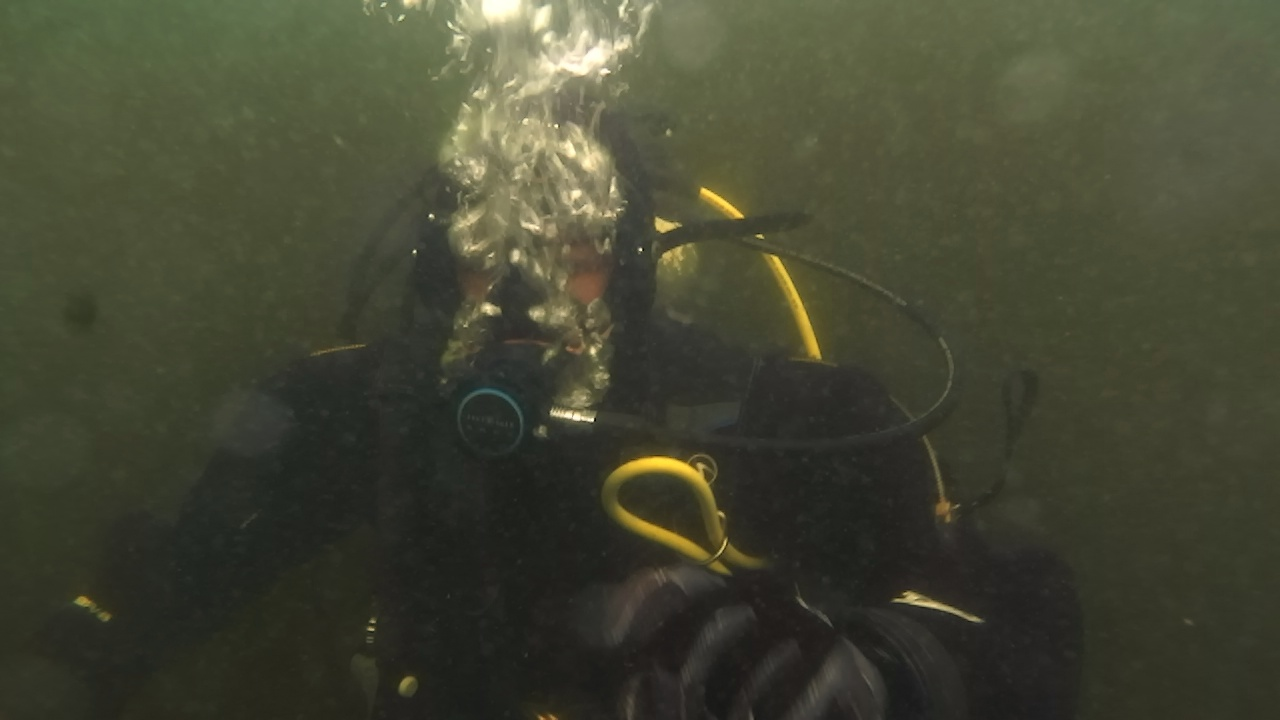Diver: (68, 126, 1082, 700)
Hand: (560, 534, 888, 692)
Head: (382, 92, 680, 464)
